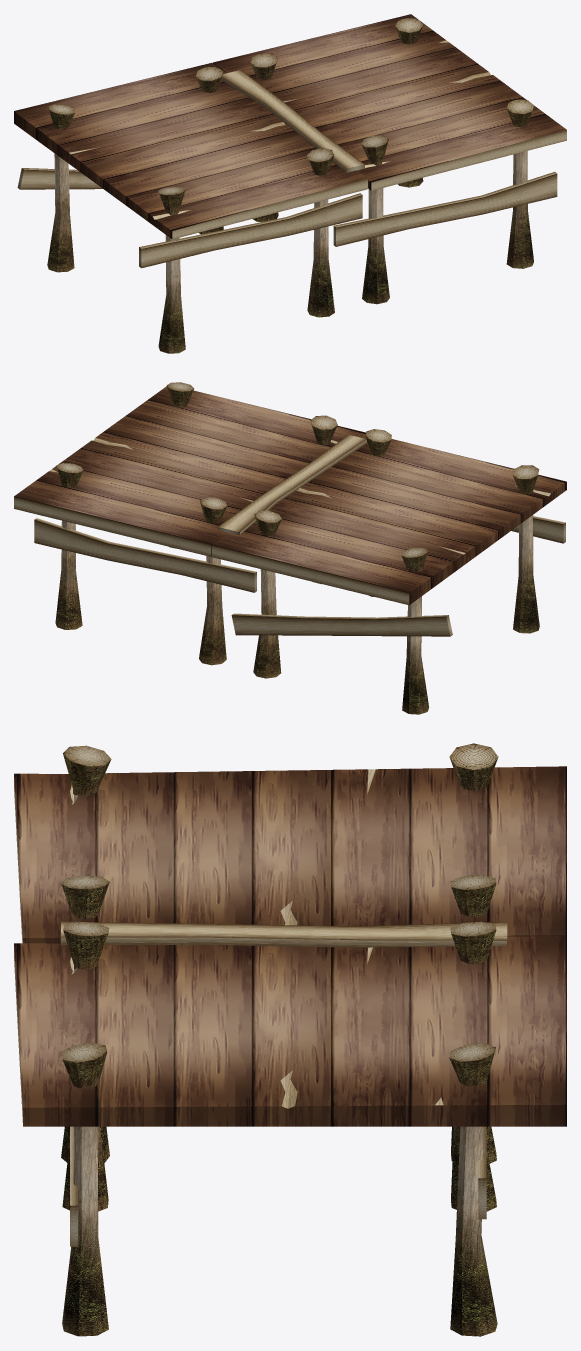
Rendered from p2_platform2_square_LOD0.fbx.
3 views of the same model, one above another, from view 1: azimuth 30°, elevation 25°; view 2: azimuth 150°, elevation 25°; view 3: azimuth 270°, elevation 25° (orthographic). The views are drawn at different scales.
Parts seen in each view (by area): view 1: polymsh; view 2: polymsh; view 3: polymsh.
Part boxes in pixels (x1=…): polymsh: x1=14, y1=14, x2=566, y2=353; polymsh: x1=14, y1=382, x2=566, y2=714; polymsh: x1=14, y1=743, x2=566, y2=1336.
Bounding box in the file's own units: 212 × 76.47 × 138.
